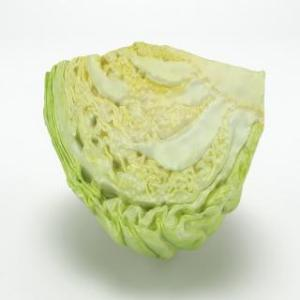cabbage: (42, 42, 268, 258)
